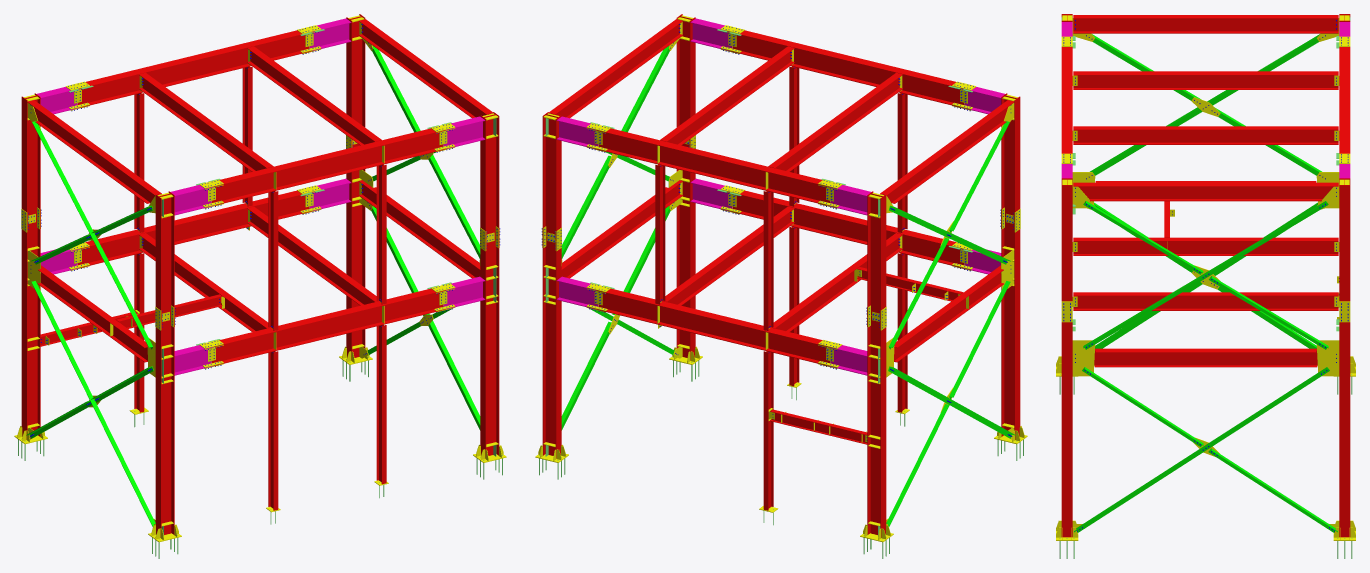
File: NFC.glb
3 renders of one model, left to right at view 1: azimuth 30°, elevation 25°; view 2: azimuth 150°, elevation 25°; view 3: azimuth 270°, elevation 25°, orthographic. The views are drawn at different scales.
Parts seen in each view (by area): view 1: IfcBeam/RG1-X1Y1-2, IfcBeam/2G1-X1Y1-1, IfcBeam/RG1-X1Y2-1, IfcBeam/2G1-X1Y2-2, IfcColumn/1CX1Y1-5, IfcColumn/1CX2Y1-8, IfcColumn/1CX1Y2-6, IfcBeam/B1-2.002, IfcBeam/G2-X2Y1-4, IfcBeam/B1-2, IfcBeam/G2-X1Y1-3, IfcBeam/B1-2.001 (+29 smaller); view 2: IfcBeam/RG1-X1Y2-1, IfcBeam/2G1-X1Y2-2, IfcBeam/RG1-X1Y1-2, IfcBeam/2G1-X1Y1-1, IfcColumn/1CX1Y2-6, IfcColumn/1CX2Y2-7, IfcColumn/1CX1Y1-5, IfcBeam/G2-X2Y1-4, IfcBeam/B1-2.002, IfcBeam/B1-2, IfcBeam/G2-X1Y1-3, IfcBeam/B1-2.001 (+34 smaller); view 3: IfcBeam/G2-X1Y1-3, IfcBeam/B1-2, IfcBeam/B1-2.002, IfcBeam/G2-X2Y1-4, IfcBeam/B1-1, IfcBeam/B1-2.001, IfcBeam/G2-X2Y1-2, IfcColumn/1CX2Y1-8, IfcColumn/1CX2Y2-7, IfcBeam/BR-6, IfcBeam/BR-9, IfcColumn/2CX2Y1-2 (+15 smaller).
Part boxes in pixels (x1=…): IfcBeam/RG1-X1Y1-2: x1=212, y1=128, x2=445, y2=205; IfcBeam/2G1-X1Y1-1: x1=212, y1=288, x2=445, y2=365; IfcBeam/RG1-X1Y2-1: x1=78, y1=30, x2=311, y2=107; IfcBeam/2G1-X1Y2-2: x1=78, y1=190, x2=311, y2=267; IfcColumn/1CX1Y1-5: x1=155, y1=315, x2=174, y2=537; IfcColumn/1CX2Y1-8: x1=480, y1=236, x2=499, y2=458; IfcColumn/1CX1Y2-6: x1=21, y1=217, x2=40, y2=439; IfcBeam/B1-2.002: x1=139, y1=72, x2=273, y2=171; IfcBeam/G2-X2Y1-4: x1=359, y1=19, x2=493, y2=118; IfcBeam/B1-2: x1=247, y1=46, x2=381, y2=145; IfcBeam/G2-X1Y1-3: x1=27, y1=100, x2=161, y2=203; IfcBeam/B1-2.001: x1=247, y1=206, x2=378, y2=305; IfcBeam/RG1-X1Y2-1: x1=596, y1=128, x2=829, y2=205; IfcBeam/2G1-X1Y2-2: x1=596, y1=288, x2=829, y2=365; IfcBeam/RG1-X1Y1-2: x1=730, y1=30, x2=963, y2=107; IfcBeam/2G1-X1Y1-1: x1=730, y1=190, x2=963, y2=267; IfcColumn/1CX1Y2-6: x1=867, y1=315, x2=886, y2=537; IfcColumn/1CX2Y2-7: x1=542, y1=236, x2=561, y2=458; IfcColumn/1CX1Y1-5: x1=1001, y1=217, x2=1020, y2=439; IfcBeam/G2-X2Y1-4: x1=548, y1=19, x2=682, y2=118; IfcBeam/B1-2.002: x1=768, y1=72, x2=902, y2=171; IfcBeam/B1-2: x1=660, y1=46, x2=794, y2=145; IfcBeam/G2-X1Y1-3: x1=880, y1=100, x2=1014, y2=203; IfcBeam/B1-2.001: x1=663, y1=206, x2=794, y2=305; IfcBeam/G2-X1Y1-3: x1=1073, y1=15, x2=1338, y2=33; IfcBeam/B1-2: x1=1073, y1=126, x2=1338, y2=144; IfcBeam/B1-2.002: x1=1073, y1=71, x2=1338, y2=89; IfcBeam/G2-X2Y1-4: x1=1073, y1=182, x2=1338, y2=201; IfcBeam/B1-1: x1=1073, y1=237, x2=1338, y2=255; IfcBeam/B1-2.001: x1=1073, y1=292, x2=1338, y2=310; IfcBeam/G2-X2Y1-2: x1=1094, y1=348, x2=1317, y2=367; IfcColumn/1CX2Y1-8: x1=1061, y1=322, x2=1072, y2=537; IfcColumn/1CX2Y2-7: x1=1339, y1=322, x2=1350, y2=537; IfcBeam/BR-6: x1=1074, y1=367, x2=1329, y2=532; IfcBeam/BR-9: x1=1083, y1=201, x2=1328, y2=349; IfcColumn/2CX2Y1-2: x1=1061, y1=178, x2=1072, y2=301.
Size of the model in its own units: 7.5 by 7.4 by 5.4.
